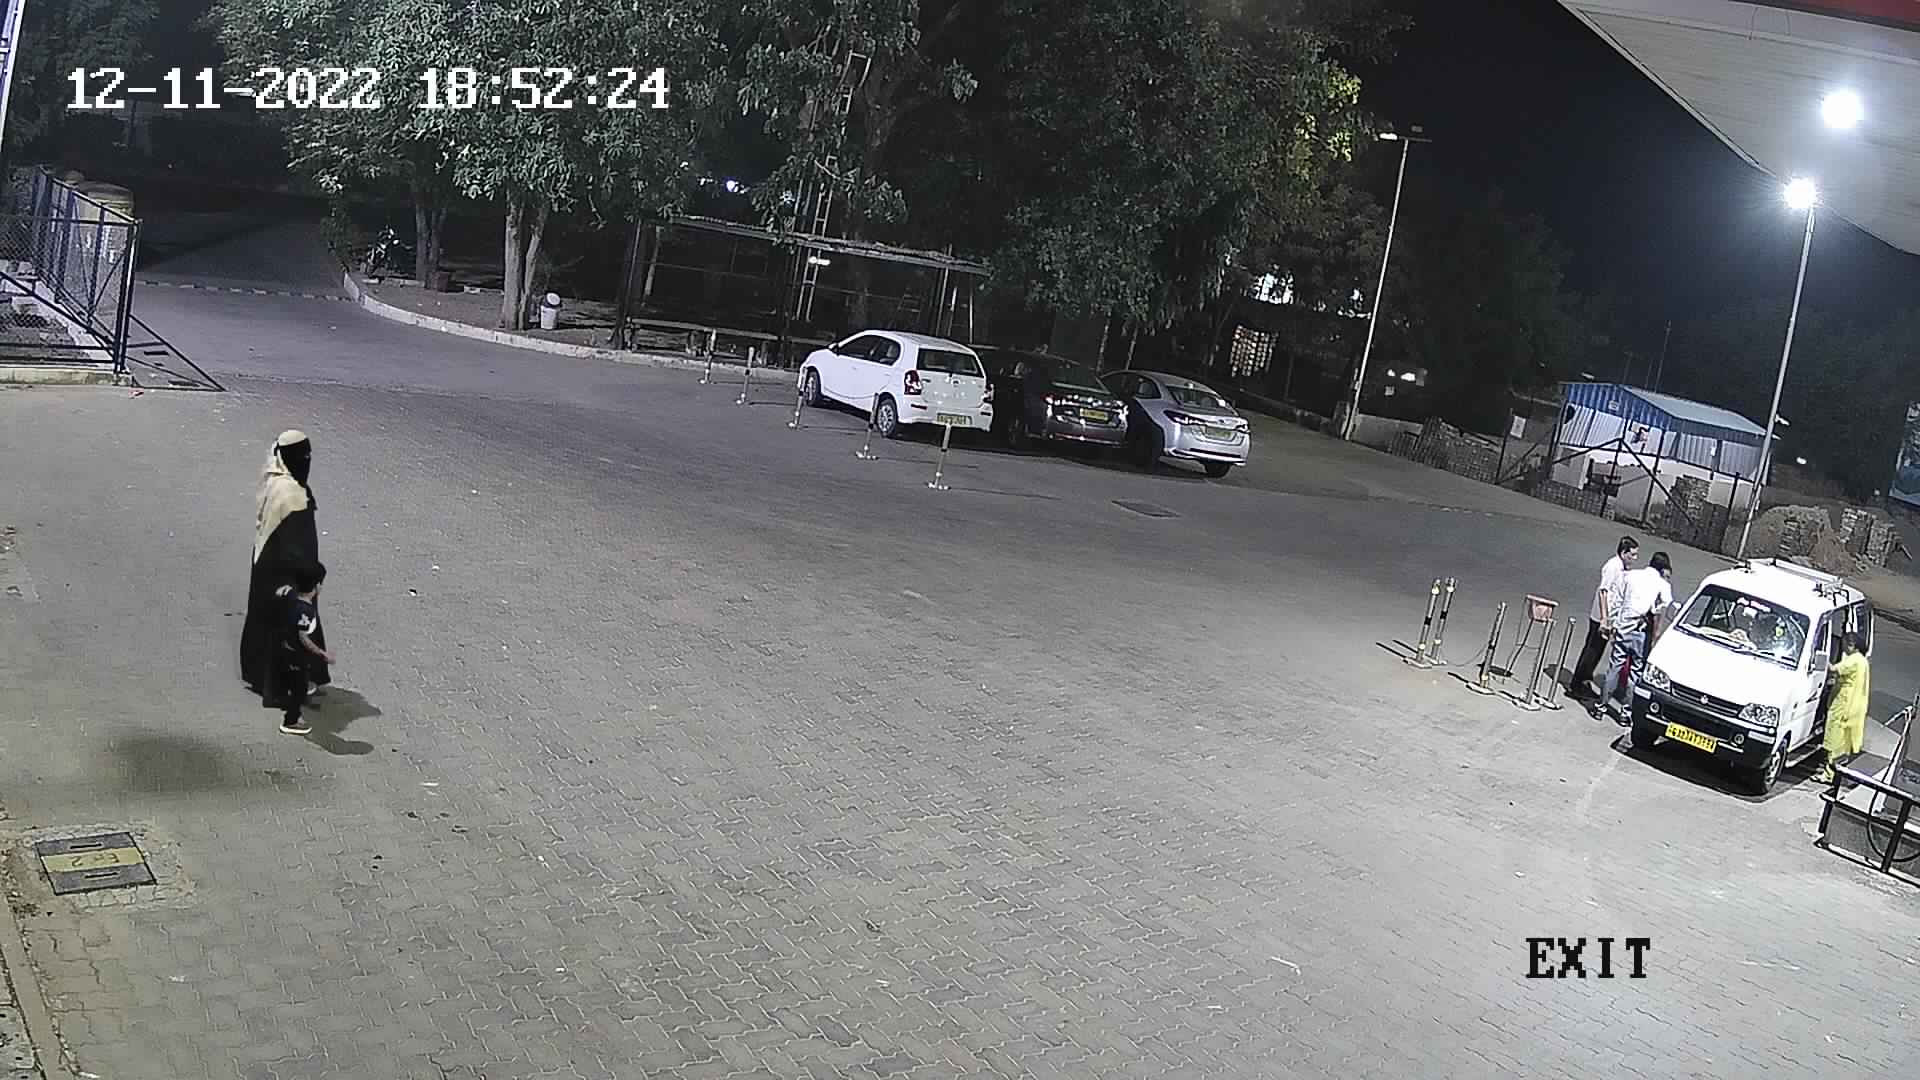Bike: (351, 204, 419, 299)
Car: (1602, 527, 1875, 793), (786, 324, 1000, 452), (967, 338, 1139, 477), (1092, 353, 1257, 487)
